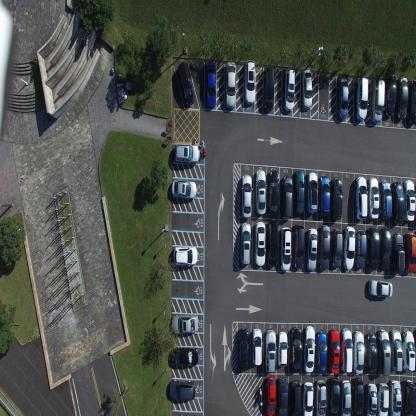car: (177, 61, 194, 107), (370, 77, 385, 123), (267, 168, 280, 218), (377, 330, 391, 376), (266, 219, 279, 267), (292, 222, 305, 270), (354, 175, 368, 219), (355, 76, 369, 120), (317, 224, 330, 271), (402, 329, 416, 372), (171, 178, 198, 200), (280, 174, 293, 219), (305, 227, 318, 272), (367, 226, 380, 271), (352, 329, 365, 374), (170, 346, 199, 366), (294, 168, 306, 216), (204, 61, 216, 109), (225, 60, 237, 108), (303, 324, 315, 372), (174, 142, 200, 164), (383, 74, 396, 118), (315, 330, 328, 374), (168, 380, 195, 401), (263, 65, 275, 112), (171, 314, 199, 334), (289, 327, 302, 370), (244, 59, 256, 105), (240, 174, 252, 219), (328, 328, 340, 373), (330, 227, 343, 268), (403, 232, 416, 273), (237, 327, 249, 371), (306, 171, 318, 215), (343, 226, 355, 270), (403, 178, 415, 222), (283, 68, 295, 112), (396, 75, 408, 119), (390, 328, 402, 372), (340, 328, 352, 372), (173, 245, 198, 266), (368, 277, 393, 298), (255, 169, 266, 216), (280, 225, 291, 272), (330, 178, 342, 221), (367, 176, 379, 219), (255, 220, 266, 266), (380, 227, 392, 269), (392, 232, 404, 274), (392, 181, 404, 223), (337, 78, 349, 120), (401, 379, 415, 415), (265, 328, 276, 373), (351, 378, 364, 416), (379, 180, 391, 221), (365, 332, 377, 373), (240, 222, 251, 266), (355, 229, 367, 269), (301, 69, 313, 109), (318, 175, 329, 217), (328, 377, 340, 415), (290, 378, 302, 416), (277, 377, 289, 415), (265, 376, 276, 416), (389, 379, 401, 415), (340, 379, 352, 415), (315, 379, 327, 415), (364, 382, 377, 415), (251, 327, 262, 365), (302, 381, 314, 415), (377, 382, 389, 415), (277, 330, 287, 368), (408, 81, 415, 126)
